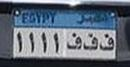1: (39, 29, 49, 54), (51, 31, 60, 56), (27, 30, 36, 55), (14, 31, 24, 52)
faa: (100, 33, 115, 54), (66, 32, 82, 51), (83, 32, 98, 52)
